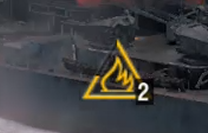2fire: (75, 61, 154, 107)
